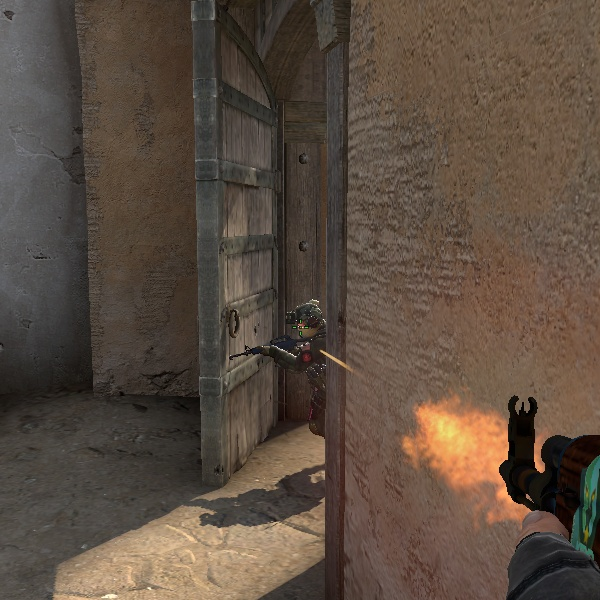ct_body: (268, 298, 329, 477)
ct_head: (283, 299, 330, 343)
